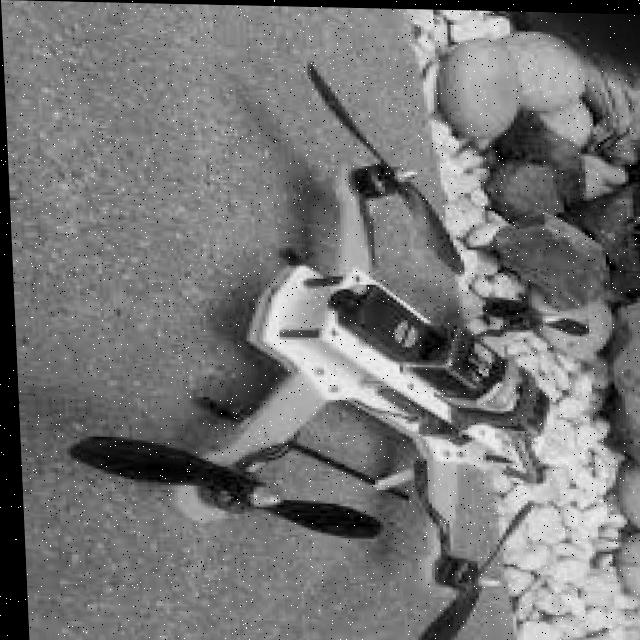drone: (88, 85, 589, 640)
